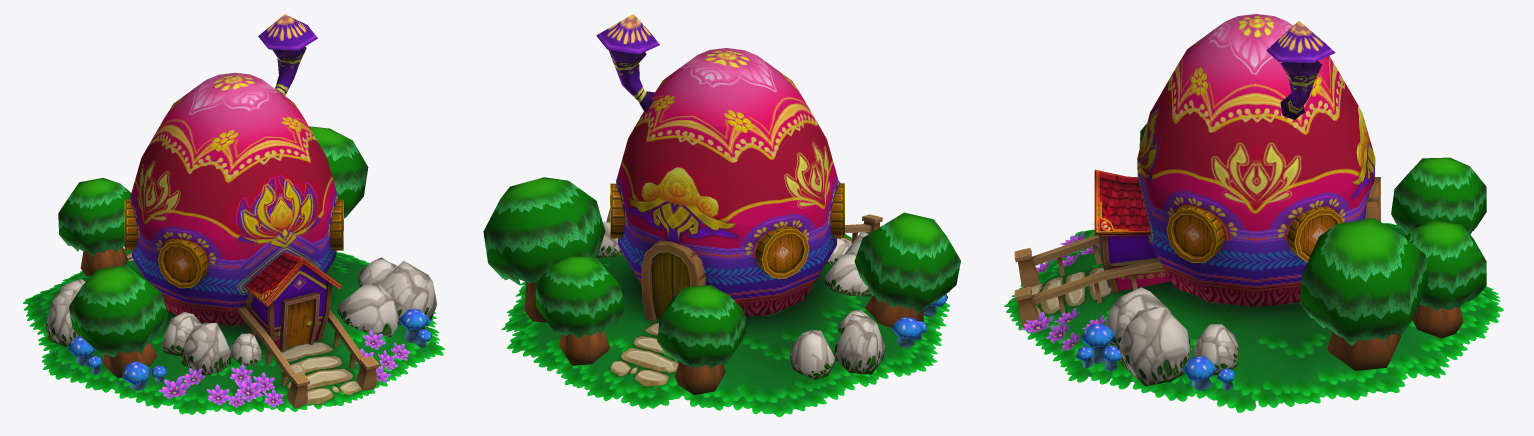
Rendered from Egg_House_05.FBX.
3 views of the same model, side by side, from view 1: azimuth 30°, elevation 25°; view 2: azimuth 150°, elevation 25°; view 3: azimuth 270°, elevation 25° (orthographic). The views are drawn at different scales.
Visible parts, largest first — view 1: Egg_House_05; view 2: Egg_House_05; view 3: Egg_House_05.
Part boxes in pixels (x1,y1,x2,y2): Egg_House_05: (23, 14, 444, 414); Egg_House_05: (483, 14, 960, 417); Egg_House_05: (1004, 14, 1503, 412).
Size of the model in its own units: 4.67 by 3.21 by 4.67.
